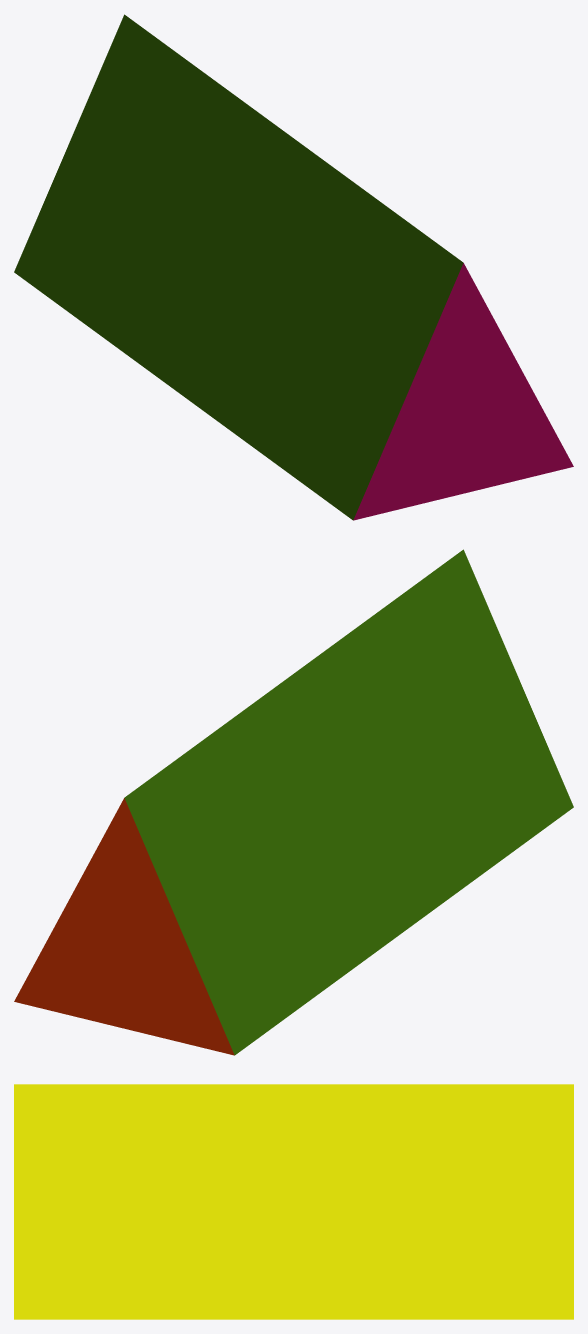
The model's file is manshoor.fbx.
3 views of the same model, one above another, from view 1: azimuth 30°, elevation 25°; view 2: azimuth 150°, elevation 25°; view 3: azimuth 270°, elevation 25° (orthographic). The views are drawn at different scales.
Visible parts, largest first — view 1: Model; view 2: Model; view 3: Model.
Boxes of the visible parts, left/top/right/bottom form: Model: left=14, top=14, right=573, bottom=520; Model: left=14, top=549, right=573, bottom=1055; Model: left=14, top=1084, right=573, bottom=1319.
Bounding box in the file's own units: 3.4 × 3.4 × 9.05.
